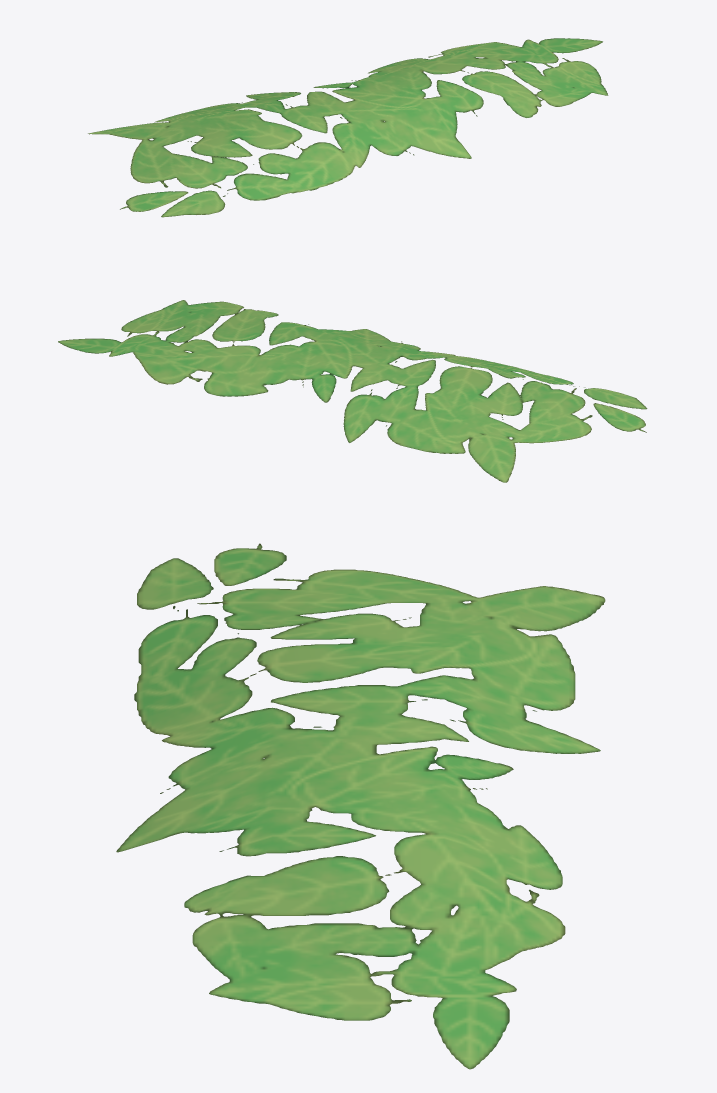
File: LeafSetC_14.fbx
3 renders of one model, top to bottom at view 1: azimuth 30°, elevation 25°; view 2: azimuth 150°, elevation 25°; view 3: azimuth 270°, elevation 25°, orthographic. The views are drawn at different scales.
Parts seen in each view (by area): view 1: LeafSetC_14; view 2: LeafSetC_14; view 3: LeafSetC_14.
Part boxes in pixels (x1=…): LeafSetC_14: x1=88, y1=38, x2=608, y2=217; LeafSetC_14: x1=58, y1=300, x2=647, y2=482; LeafSetC_14: x1=116, y1=543, x2=605, y2=1069.
Size of the model in its own units: 1.15 by 0.0505 by 0.4569.
